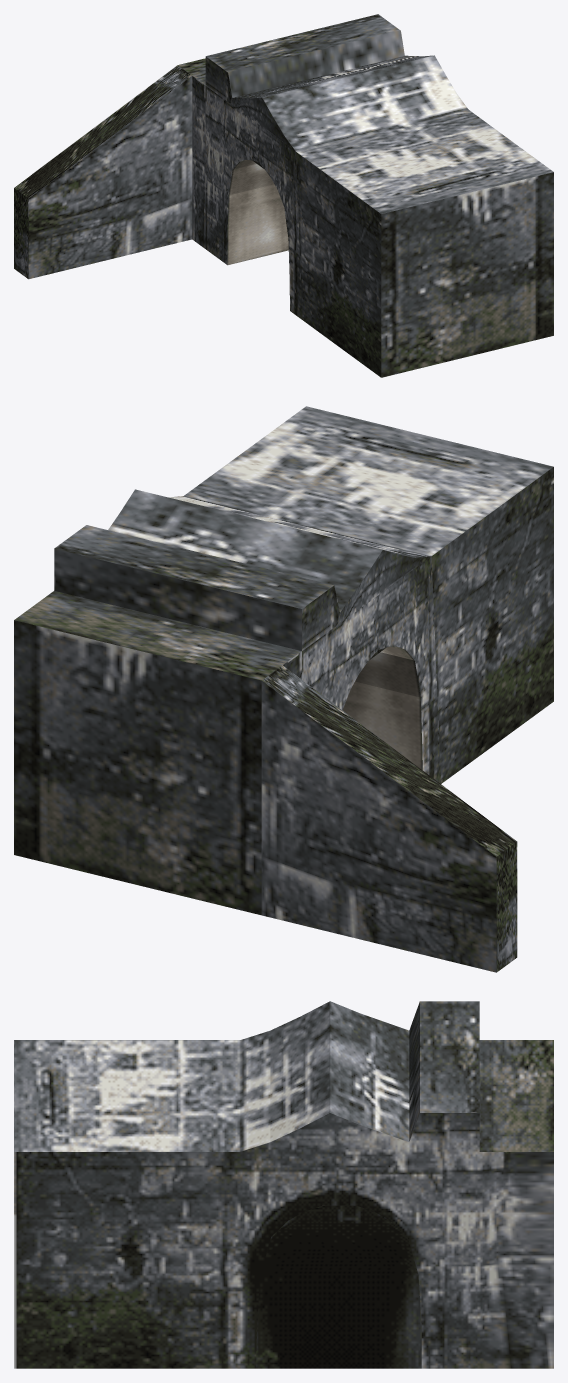
File: TUNNEL.fbx
The picture shows the model from 3 angles, top to bottom: view 1: azimuth 30°, elevation 25°; view 2: azimuth 150°, elevation 25°; view 3: azimuth 270°, elevation 25°; orthographic projection. The views are drawn at different scales.
Visible parts, largest first — view 1: Cube.576; view 2: Cube.576; view 3: Cube.576.
Part boxes in pixels (x1=…): Cube.576: x1=14, y1=14, x2=553, y2=377; Cube.576: x1=14, y1=406, x2=553, y2=972; Cube.576: x1=14, y1=1001, x2=553, y2=1368.
Size of the model in its own units: 992 by 544 by 1041.
